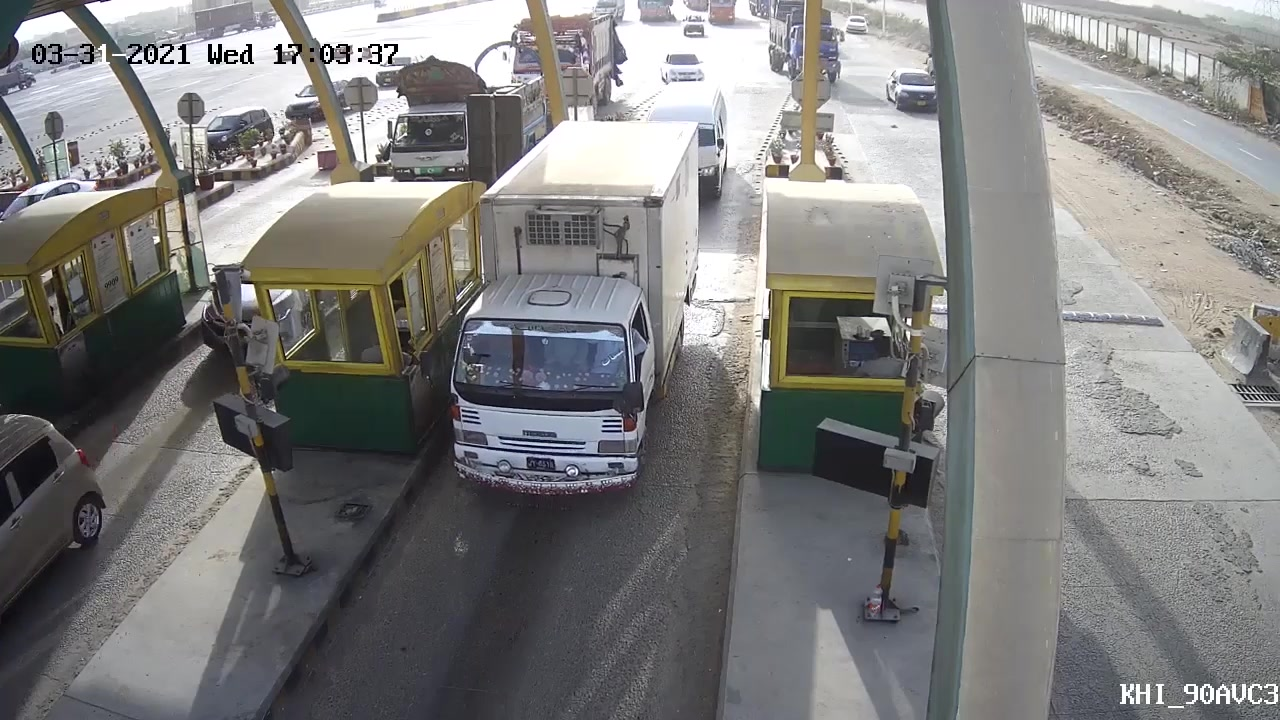F5: (439, 121, 708, 508)
